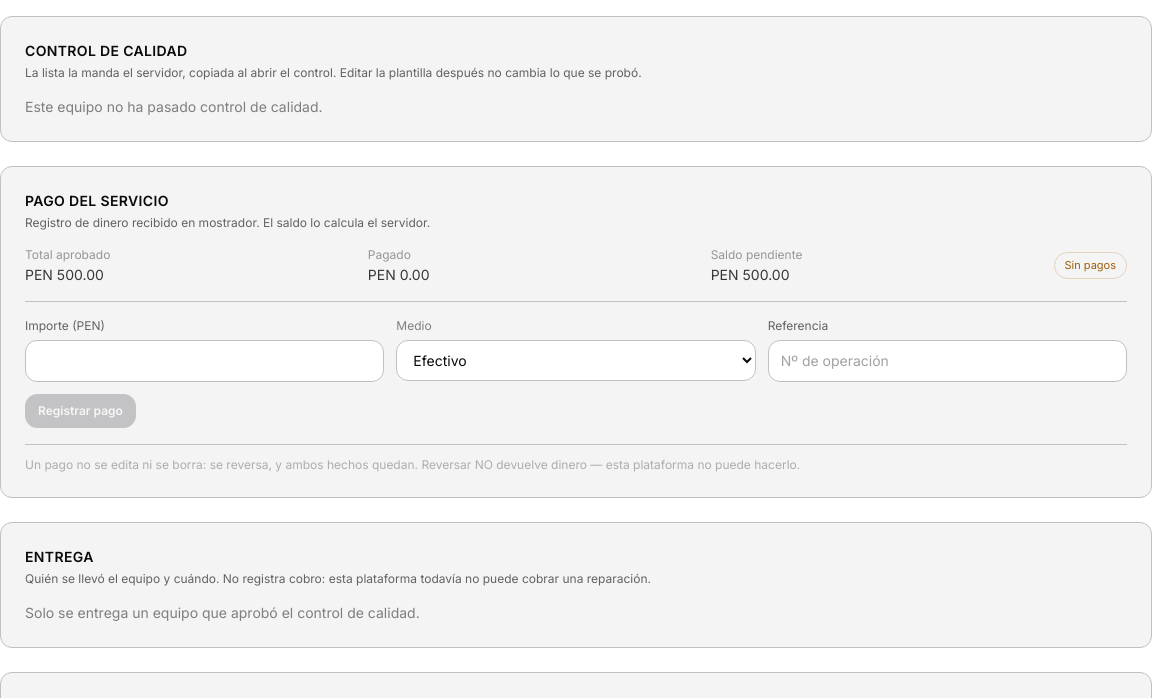
Test: only a secure source mints a key (#186 review) › the panel refuses to record a payment without a secure key, and says why
(page scrolled)
Type "100.00" into the field labelled "Importe (PEN)" at x=205, y=361, box top-left (25, 340), bottom-right (384, 382)
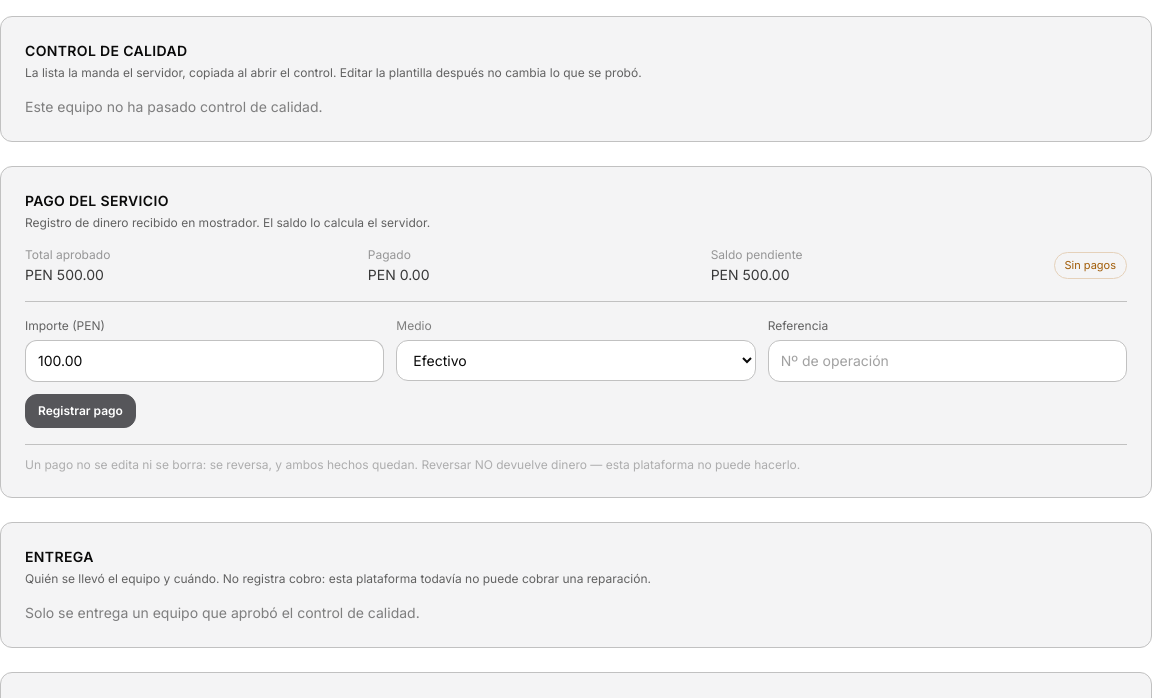
Click the button "Registrar pago" at x=80, y=411, box top-left (25, 394), bottom-right (136, 428)
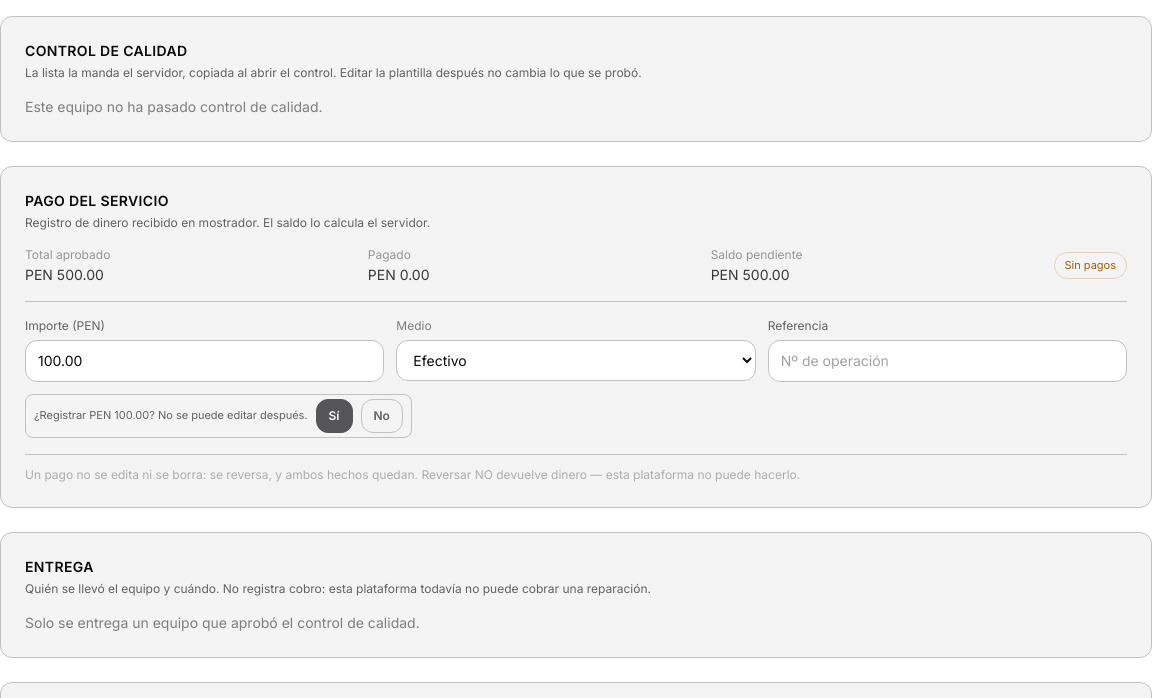
Click the button "Sí" at x=334, y=416, box top-left (316, 399), bottom-right (352, 433)
(page scrolled)
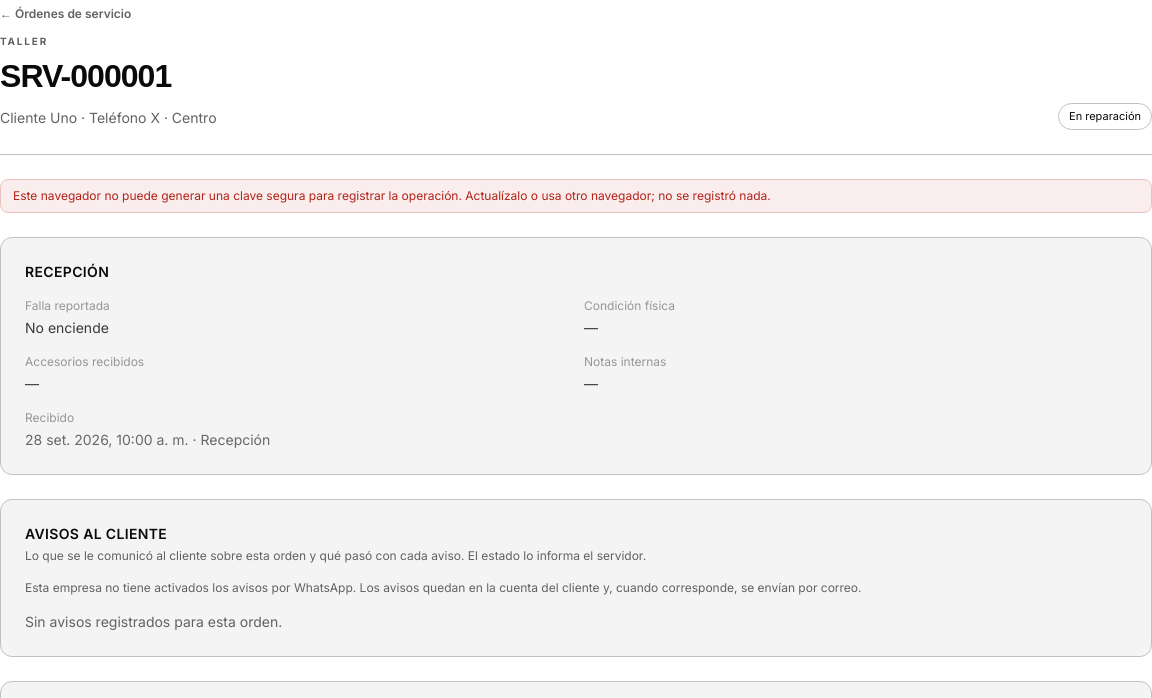
Now the text "clave segura" is shown, box top-left (13, 188), bottom-right (771, 203)
